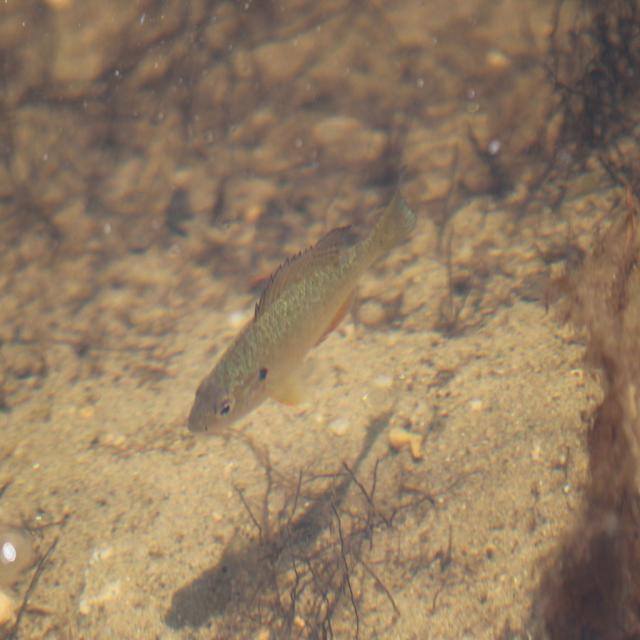Gunes Levregi: (185, 177, 418, 437)
